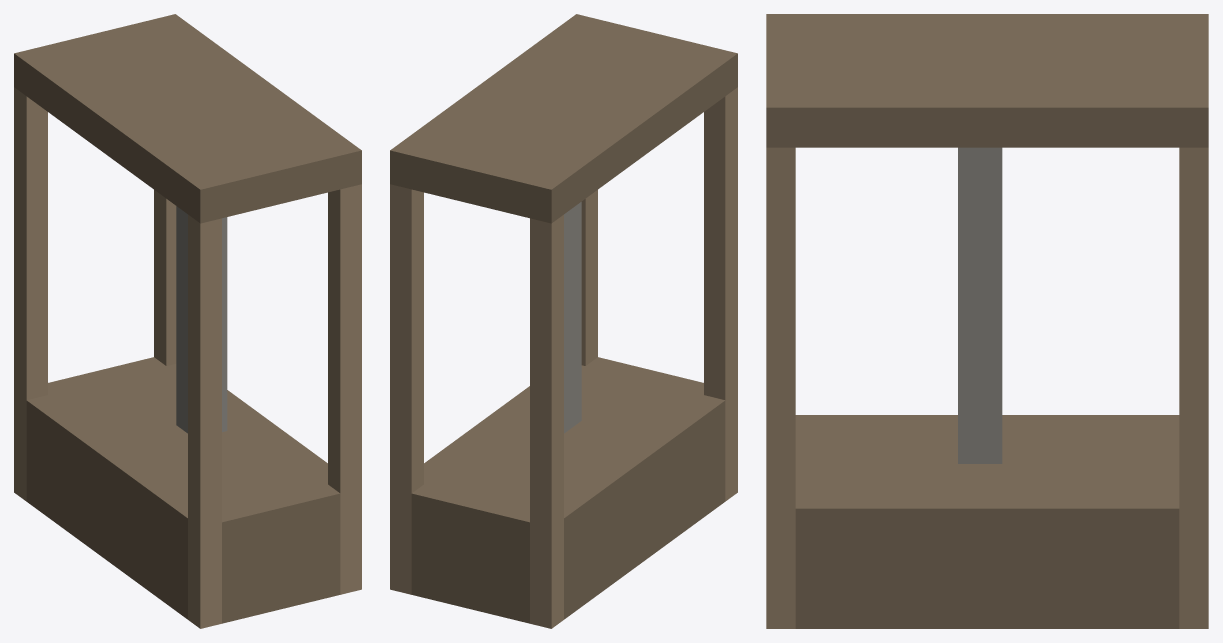
The model's file is prensa_vino_01.glb.
The picture shows the model from 3 angles, left to right: view 1: azimuth 30°, elevation 25°; view 2: azimuth 150°, elevation 25°; view 3: azimuth 270°, elevation 25°; orthographic projection. The views are drawn at different scales.
Visible parts, largest first — view 1: prensa_vino; view 2: prensa_vino; view 3: prensa_vino.
Boxes of the visible parts, left/top/right/bottom form: prensa_vino: left=14, top=14, right=361, bottom=628; prensa_vino: left=390, top=14, right=737, bottom=628; prensa_vino: left=766, top=14, right=1208, bottom=628.
Size of the model in its own units: 1 by 2.6 by 2.
